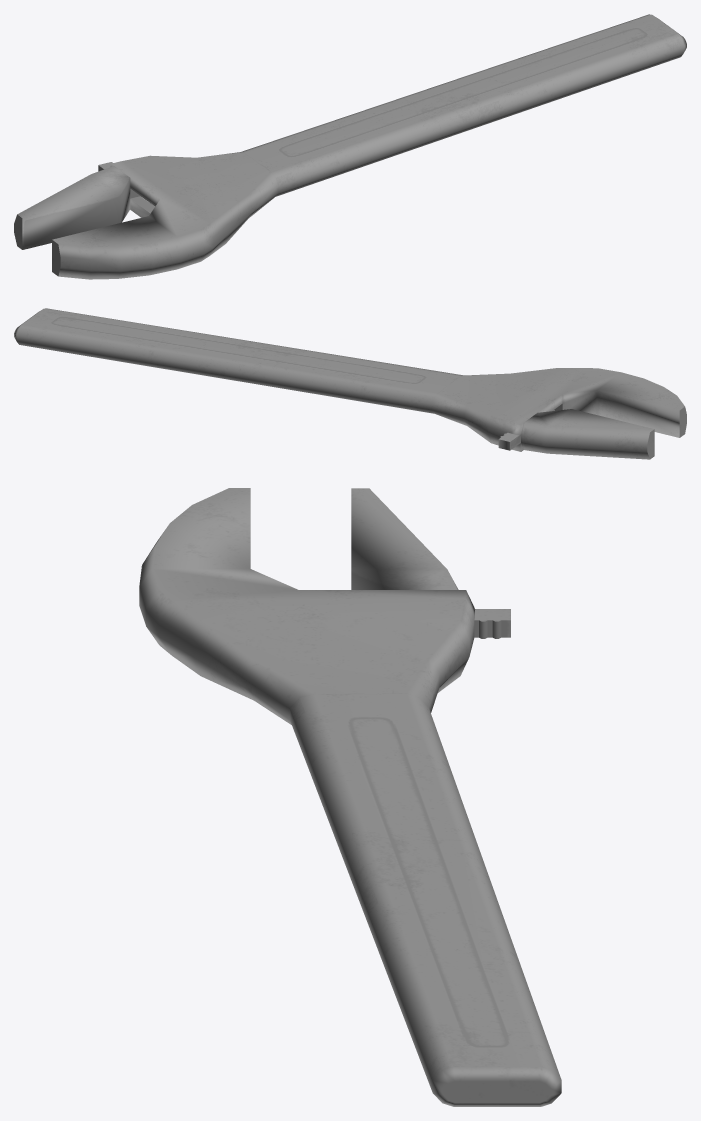
Rendered from wrench.glb.
The picture shows the model from 3 angles, top to bottom: view 1: azimuth 30°, elevation 25°; view 2: azimuth 150°, elevation 25°; view 3: azimuth 270°, elevation 25°; orthographic projection. The views are drawn at different scales.
Visible parts, largest first — view 1: wrench_Tools_0, wrench_Tools_0.001; view 2: wrench_Tools_0, wrench_Tools_0.001; view 3: wrench_Tools_0, wrench_Tools_0.001.
Boxes of the visible parts, x1,y1,x2,y2 form: wrench_Tools_0: (52, 14, 686, 279); wrench_Tools_0.001: (14, 162, 140, 249); wrench_Tools_0: (14, 308, 686, 451); wrench_Tools_0.001: (498, 409, 654, 459); wrench_Tools_0: (139, 488, 561, 1106); wrench_Tools_0.001: (351, 488, 510, 638).
Size of the model in its own units: 0.2976 by 0.0133 by 0.0922.
1 material, 1 textured.
